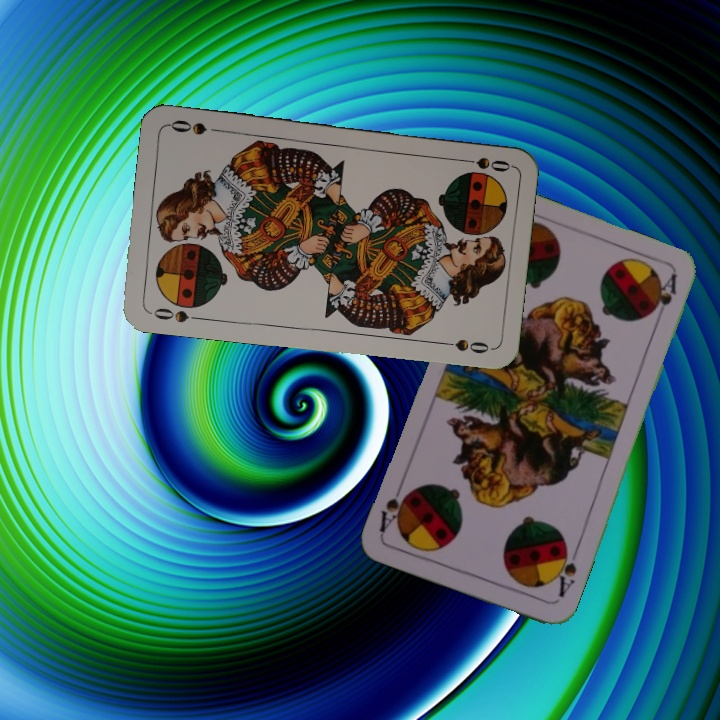SA: (549, 542, 580, 600)
SO: (145, 303, 204, 325), (454, 153, 513, 174)
